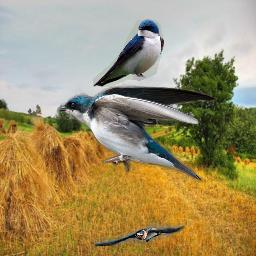Swallow: (57, 84, 217, 182), (93, 19, 164, 87), (94, 223, 185, 246)
